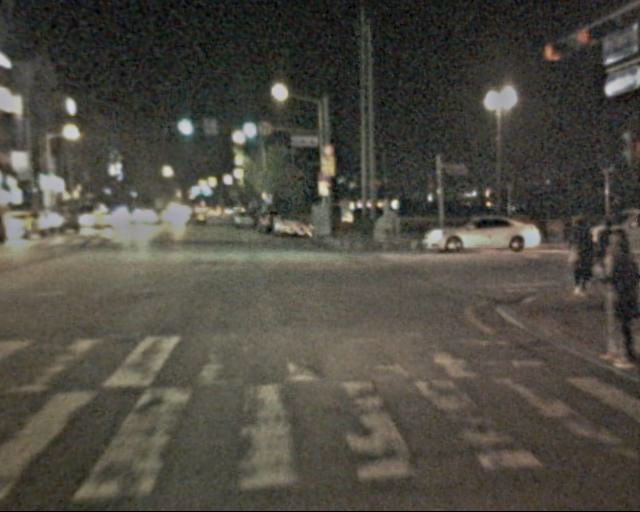person: (587, 233, 640, 365), (565, 217, 598, 294), (591, 220, 623, 294)
